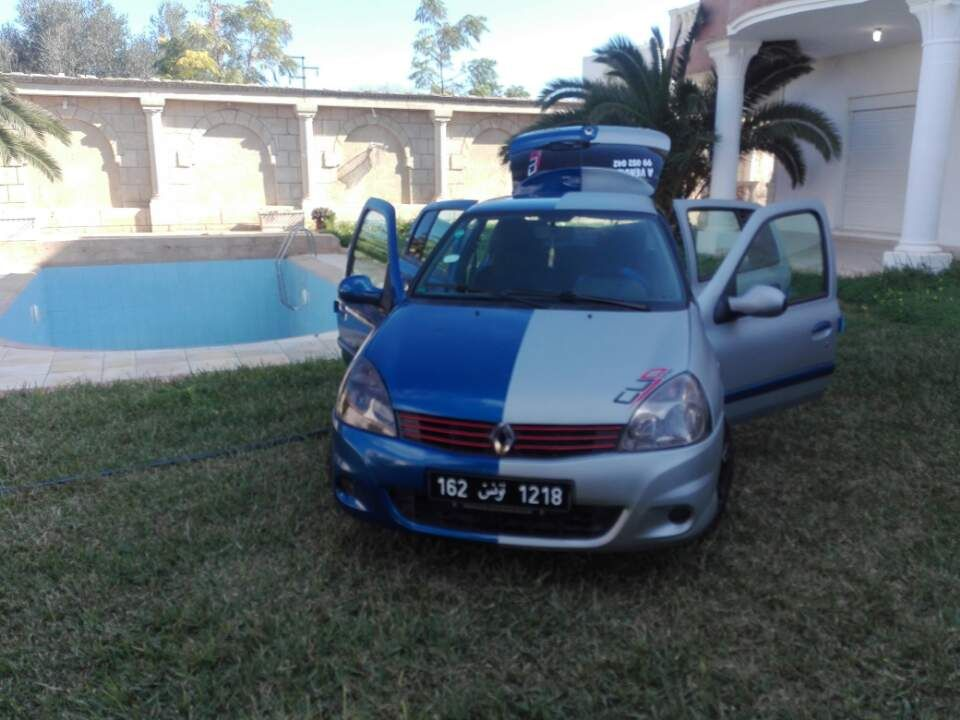LP: (425, 467, 574, 515)
